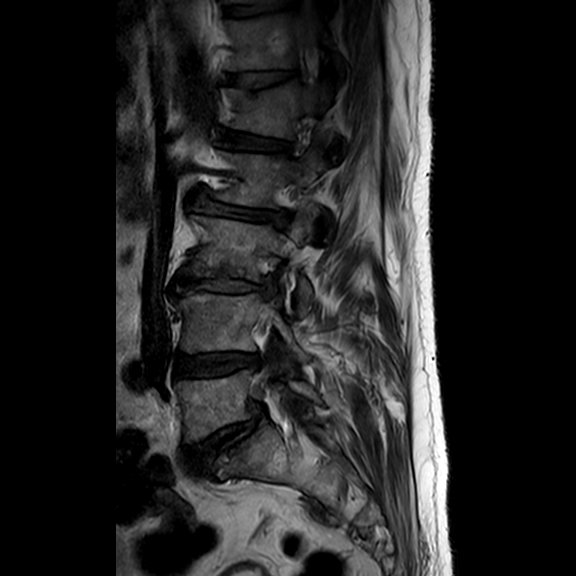RFS0: (276, 106, 321, 166)
